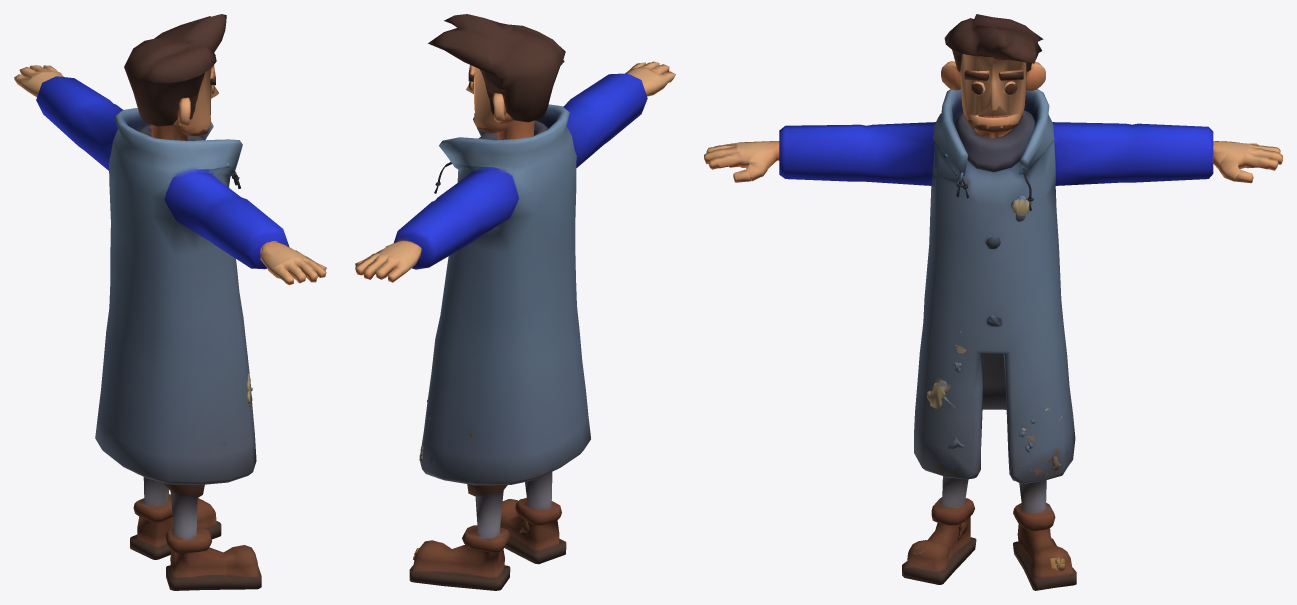
The picture shows the model from 3 angles, left to right: view 1: azimuth 30°, elevation 25°; view 2: azimuth 150°, elevation 25°; view 3: azimuth 270°, elevation 25°; orthographic projection.
Visible parts, largest first — view 1: tripo_node_867cb05e-5288-4f07-9661-3c01c1319f51; view 2: tripo_node_867cb05e-5288-4f07-9661-3c01c1319f51; view 3: tripo_node_867cb05e-5288-4f07-9661-3c01c1319f51.
Boxes of the visible parts, <box> form: tripo_node_867cb05e-5288-4f07-9661-3c01c1319f51: <box>14,14,326,590</box>; tripo_node_867cb05e-5288-4f07-9661-3c01c1319f51: <box>355,14,675,590</box>; tripo_node_867cb05e-5288-4f07-9661-3c01c1319f51: <box>704,14,1282,590</box>.
Bounding box in the file's own units: 0.2559 × 0.998 × 0.959.
1 material, 1 textured.
